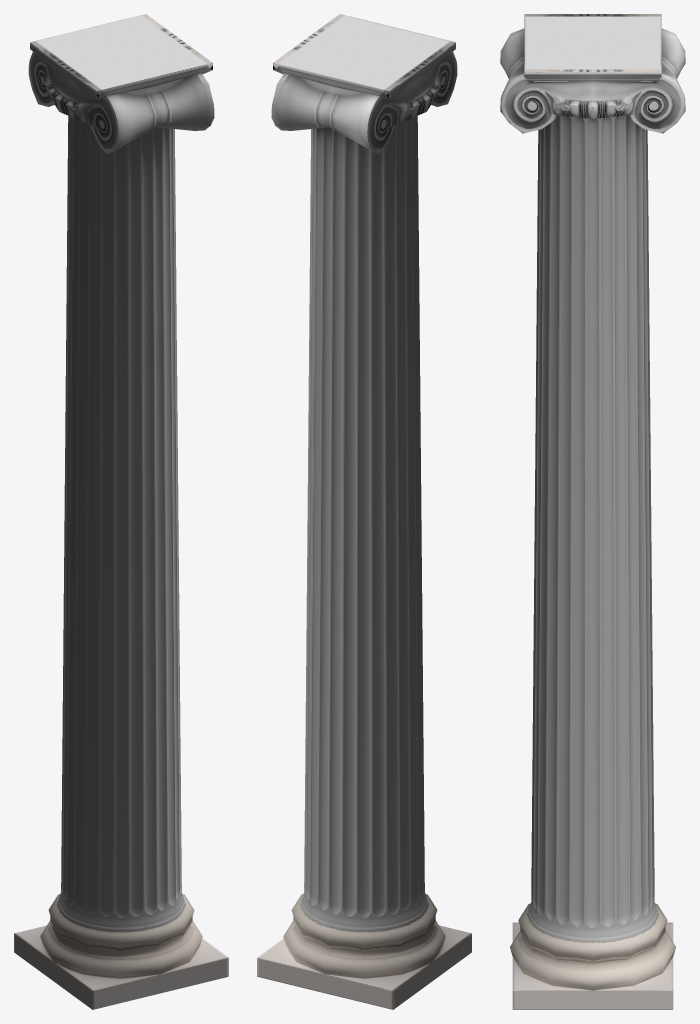
The model's file is column-stoa.glb.
3 renders of one model, left to right at view 1: azimuth 30°, elevation 25°; view 2: azimuth 150°, elevation 25°; view 3: azimuth 270°, elevation 25°, orthographic. The views are drawn at different scales.
Visible parts, largest first — view 1: BezierCircle; view 2: BezierCircle; view 3: BezierCircle.
Boxes of the visible parts, x1,y1,x2,y2 form: BezierCircle: (14,14,228,1009); BezierCircle: (257,14,471,1009); BezierCircle: (500,14,685,1009).
Size of the model in its own units: 1.07 by 6.61 by 1.19.
Materials: 1 (1 with a texture image).
